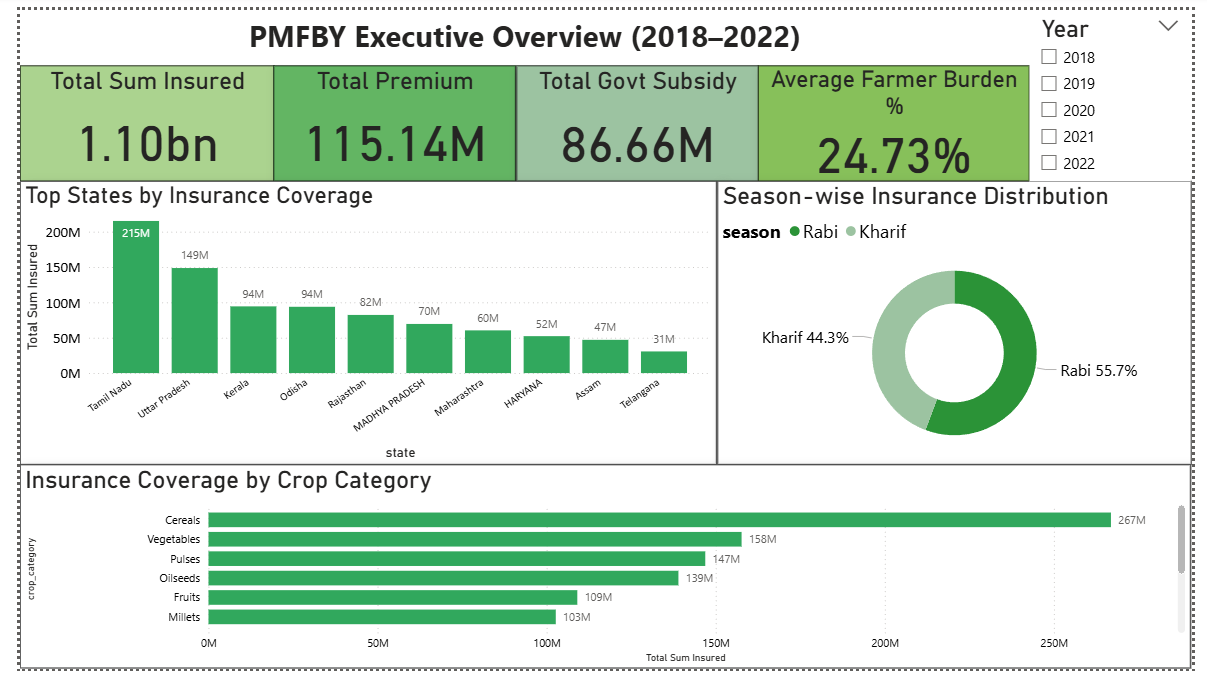

This screenshot's page, from the dashboard's own definition file:
{"tool":"powerbi","page":{"name":"Executive Overview","canvas":[1280,720],"ordinal":1},"visuals":[{"type":"card","title":"Total Sum Insured","fields":{"Values":["PMFBY_crop_insurance_analytics_dashboard.Total Sum Insured"]},"box":[0,91.7,278.3,126.7],"z":0},{"type":"card","title":"Total Premium","fields":{"Values":["PMFBY_crop_insurance_analytics_dashboard.Total Premium"]},"box":[278.3,91.7,263.3,126.7],"z":1000},{"type":"card","title":"Total Govt Subsidy","fields":{"Values":["PMFBY_crop_insurance_analytics_dashboard.Total Govt Subsidy"]},"box":[541.7,91.7,265,126.7],"z":2000},{"type":"card","title":"Average Farmer Burden %","fields":{"Values":["PMFBY_crop_insurance_analytics_dashboard.Farmer Burden %"]},"box":[806.7,91.7,296.7,126.7],"z":3000},{"type":"clusteredColumnChart","title":"Top States by Insurance Coverage","fields":{"Category":["PMFBY_crop_insurance_analytics_dashboard.state"],"Y":["PMFBY_crop_insurance_analytics_dashboard.Total Sum Insured"]},"box":[0,218.3,761.7,278.3],"z":4000},{"type":"donutChart","title":"Season-wise Insurance Distribution","fields":{"Category":["PMFBY_crop_insurance_analytics_dashboard.season"],"Y":["PMFBY_crop_insurance_analytics_dashboard.Total Sum Insured"]},"box":[761.7,218.3,518.3,278.3],"z":5000},{"type":"slicer","fields":{"Values":["PMFBY_crop_insurance_analytics_dashboard.year"]},"box":[1103.3,91.7,176.7,126.7],"z":6000},{"type":"clusteredBarChart","title":"Insurance Coverage by Crop Category","fields":{"Category":["PMFBY_crop_insurance_analytics_dashboard.crop_category"],"Y":["PMFBY_crop_insurance_analytics_dashboard.Total Sum Insured"]},"box":[0,496.7,1280,223.3],"z":7000},{"type":"textbox","box":[208.9,0,866.3,89.1],"z":8000},{"type":"image","box":[0,0,208.9,92.3],"z":9000},{"type":"image","box":[968.3,1.6,310.9,92.3],"z":9001}]}

Visuals, with their boxes in screenshot pixels (x1, y1, x2, y2), scaled from the page's 1280x720 canvas onto the 1207x673 screenshot:
"Total Sum Insured" card: pyautogui.locateOnScreen(0, 86, 262, 204)
"Total Premium" card: pyautogui.locateOnScreen(262, 86, 511, 204)
"Total Govt Subsidy" card: pyautogui.locateOnScreen(511, 86, 761, 204)
"Average Farmer Burden %" card: pyautogui.locateOnScreen(761, 86, 1040, 204)
"Top States by Insurance Coverage" clusteredColumnChart: pyautogui.locateOnScreen(0, 204, 718, 464)
"Season-wise Insurance Distribution" donutChart: pyautogui.locateOnScreen(718, 204, 1206, 464)
slicer - PMFBY_crop_insurance_analytics_dashboard.year: pyautogui.locateOnScreen(1040, 86, 1206, 204)
"Insurance Coverage by Crop Category" clusteredBarChart: pyautogui.locateOnScreen(0, 464, 1206, 672)
textbox: pyautogui.locateOnScreen(197, 0, 1014, 83)
image: pyautogui.locateOnScreen(0, 0, 197, 86)
image: pyautogui.locateOnScreen(913, 1, 1206, 88)
